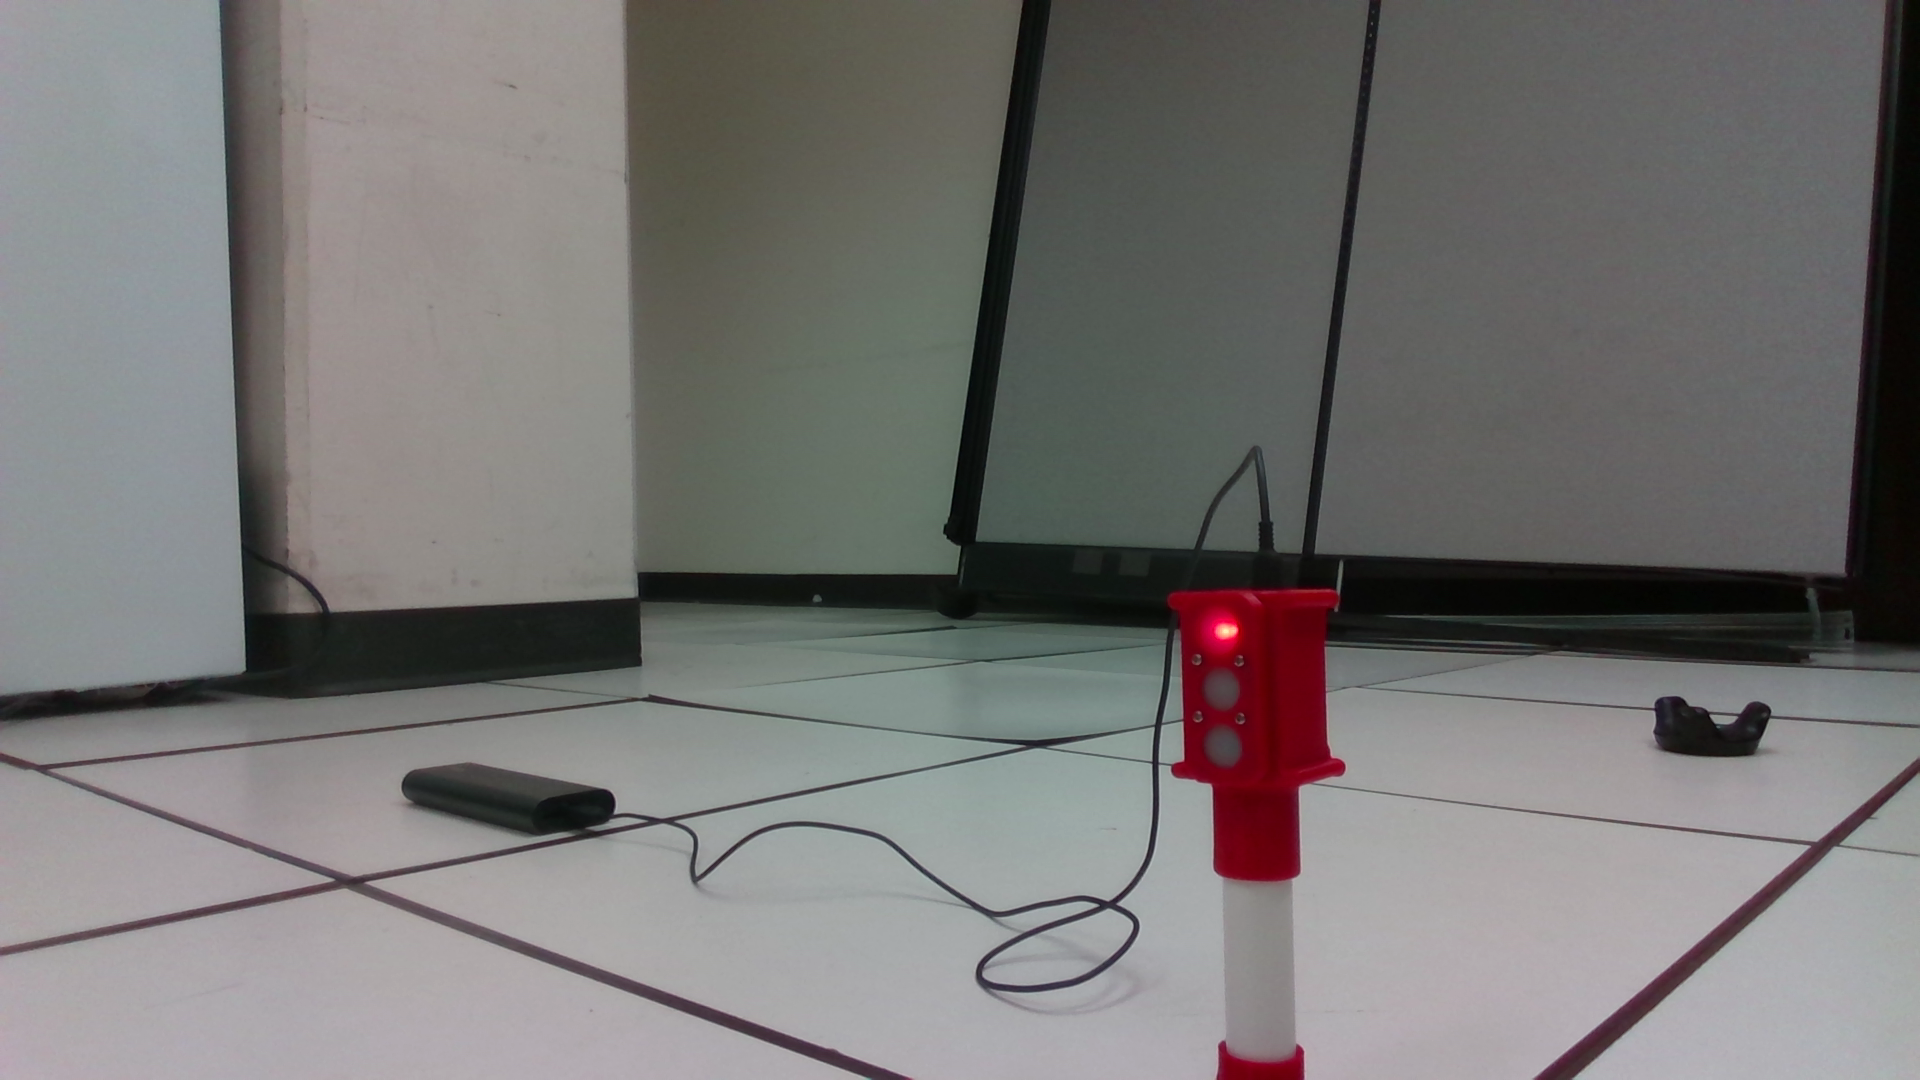stoplight: (1163, 591, 1346, 885)
